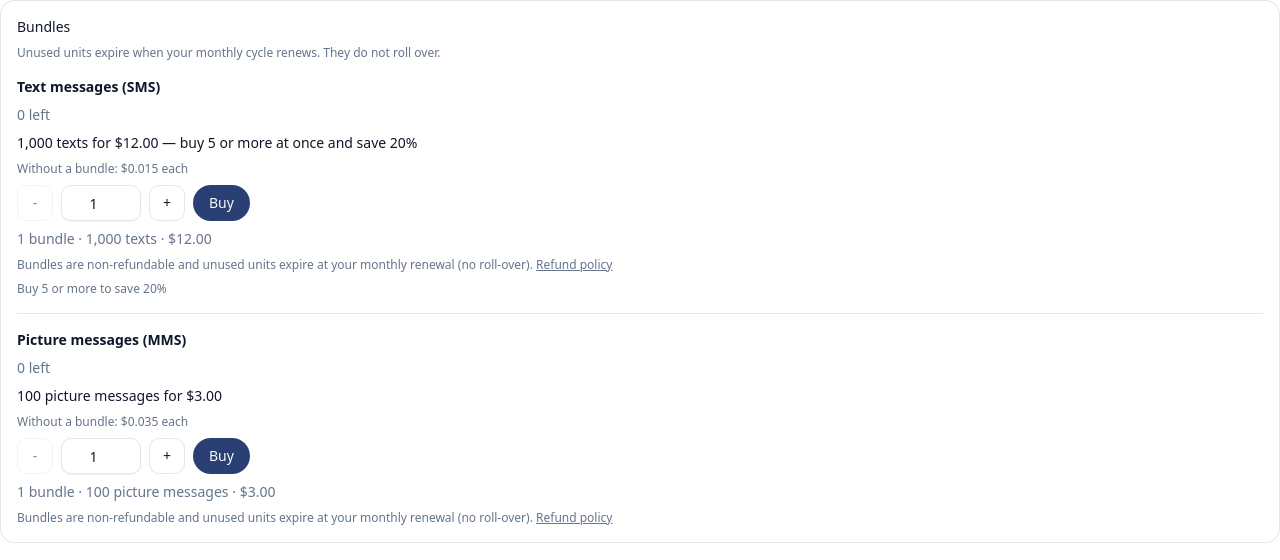
Test: BundlesCard › never shows savings for MMS, which has no volume discount
Expected: the heading "Picture messages (MMS)" is shown, x1=17 y1=330 x2=186 y2=349
Replace the text in the number field named "Picture messages (MMS) bundle quantity" with "5" at (101, 456), box x1=61 y1=438 x2=141 y2=474
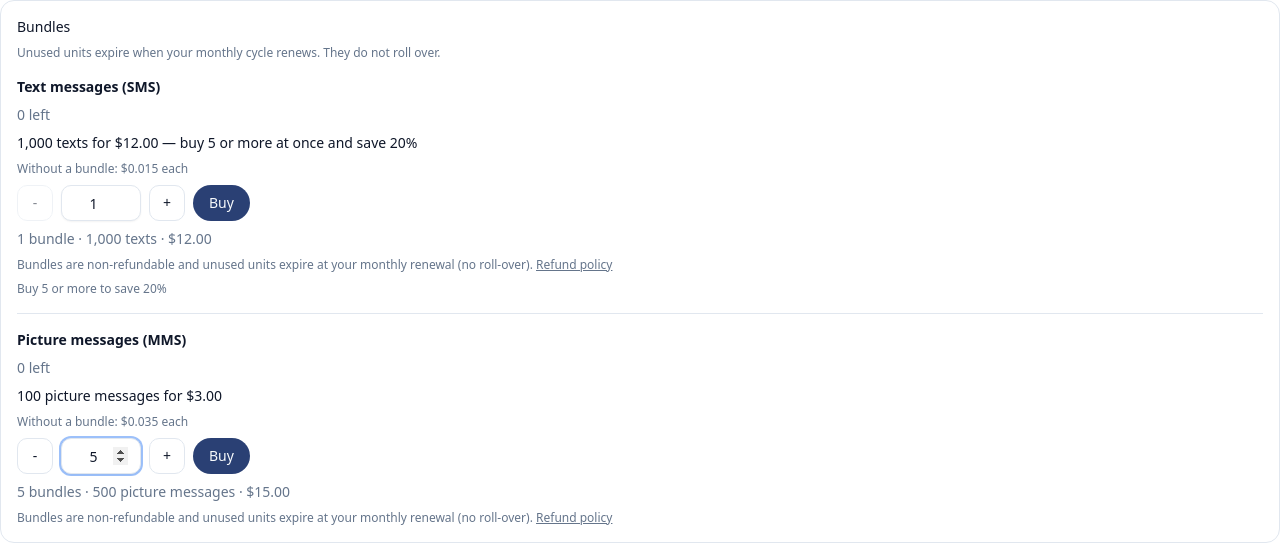
Now the text "5 bundles · 500 picture messages · $15.00" is shown, box x1=17 y1=482 x2=290 y2=501
